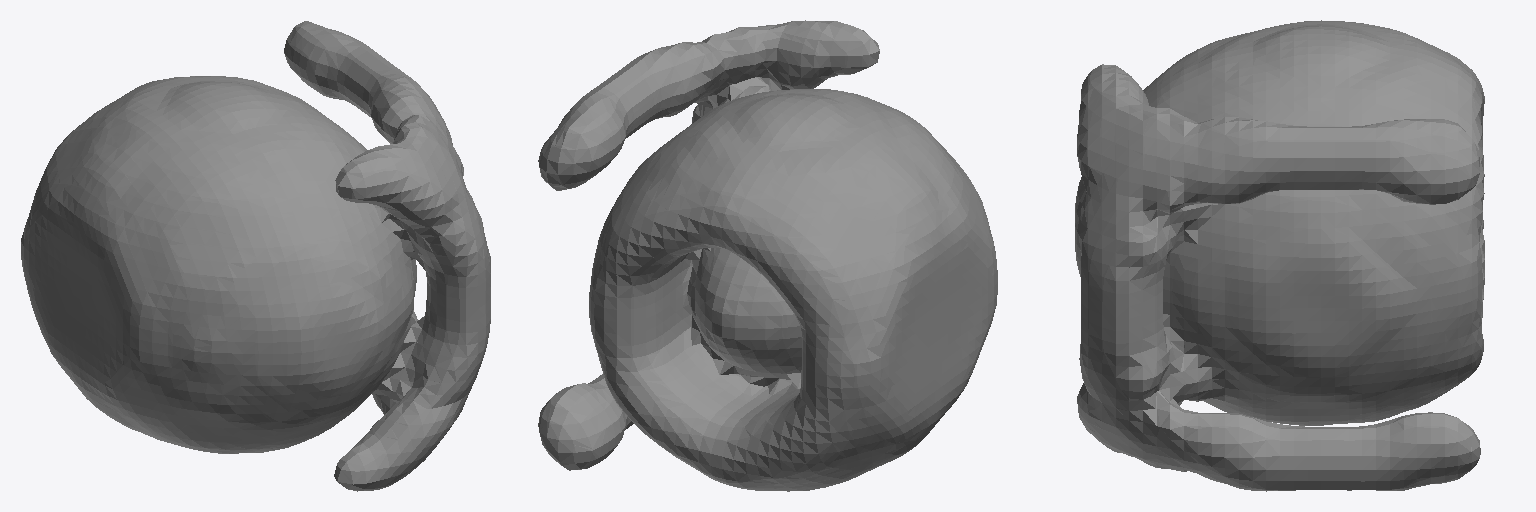
robot.urdf — cube.urdf:
<?xml version="0.0" ?> 
<robot name="cube.urdf"> 
<link name="legobrick"> 
<contact> 
<lateral_friction value="5.0"/> 
<rolling_friction value="0.0"/> 
<contact_cfm value="0.0"/> 
<contact_erp value="1.0"/> 
</contact> 
<inertial> 
<origin rpy="0 0 0" xyz="0.0 0.0 0.0"/> 
<mass value=".01"/> 
<inertia ixx="1" ixy="0" ixz="0" iyy="1" iyz="0" izz="1"/> 
</inertial> 
<visual> 
<origin rpy="1.570796 0 0" xyz="-0.029131877028599883 0.02505812072034586 -0.025844196310358607"/> 
<geometry> 
<mesh filename="D13_3.obj" scale="0.0006961545916220975 0.0006961545916220975 0.0006961545916220975"/> 
</geometry> 
<material name="yellow"> 
<color rgba="0.6 0.6 0.6 1"/> 
</material> 
</visual> 
<collision> 
<origin rpy="1.570796 0 0" xyz="-0.029131877028599883 0.02505812072034586 -0.025844196310358607"/> 
<geometry> 
<mesh filename="D13_3.obj" scale="0.0006961545916220975 0.0006961545916220975 0.0006961545916220975"/> 
</geometry> 
</collision> 
</link> 
</robot>

--- Facts derived from the render (not from the file) ---
3 views of the same robot in one strip: view 1: azimuth 30°, elevation 25°; view 2: azimuth 150°, elevation 25°; view 3: azimuth 270°, elevation 25° (orthographic).
Robot: cube.urdf — 1 links, 0 joints (none); root link legobrick; default pose: every joint at zero.
Links seen in each view (by area): view 1: legobrick; view 2: legobrick; view 3: legobrick.
Boxes of the visible links, bbox=[...] form: legobrick: bbox=[21, 21, 490, 491]; legobrick: bbox=[538, 20, 997, 491]; legobrick: bbox=[1075, 20, 1484, 491].
Bounding box of the posed robot: 0.0557 × 0.056 × 0.0561 m (x, y, z).
Meshes: 1 distinct files referenced, 1 mesh visuals loaded (1 OBJ).
